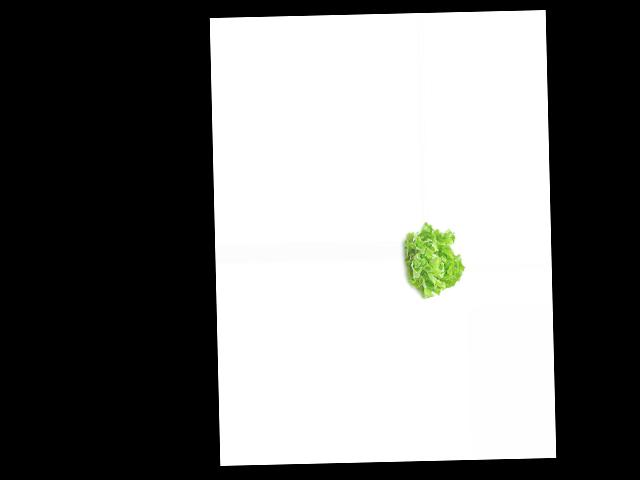lettuce: (401, 222, 465, 297)
